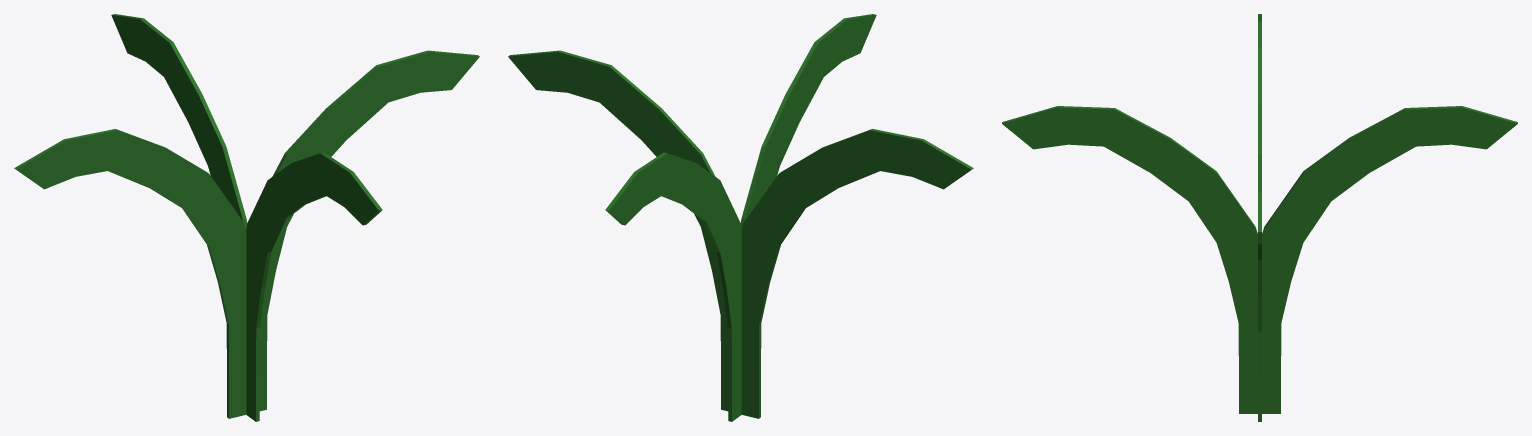
File: 4BladeGrass.fbx
The picture shows the model from 3 angles, left to right: view 1: azimuth 30°, elevation 25°; view 2: azimuth 150°, elevation 25°; view 3: azimuth 270°, elevation 25°; orthographic projection. The views are drawn at different scales.
Parts seen in each view (by area): view 1: Cube.002, Cube, Cube.001, Cube.003; view 2: Cube.002, Cube, Cube.001, Cube.003; view 3: Cube.001, Cube.003, Cube, Cube.002.
Boxes of the visible parts, left/top/right/bottom form: Cube.002: left=14, top=129, right=266, bottom=415; Cube: left=227, top=50, right=479, bottom=418; Cube.001: left=111, top=14, right=259, bottom=421; Cube.003: left=246, top=152, right=382, bottom=420; Cube.002: left=722, top=129, right=973, bottom=374; Cube: left=508, top=50, right=760, bottom=418; Cube.001: left=605, top=152, right=741, bottom=421; Cube.003: left=730, top=14, right=876, bottom=421; Cube.001: left=1262, top=106, right=1517, bottom=413; Cube.003: left=1002, top=106, right=1257, bottom=413; Cube: left=1258, top=170, right=1261, bottom=421; Cube.002: left=1258, top=14, right=1261, bottom=421.
Bounding box in the file's own units: 245 × 160 × 245.
